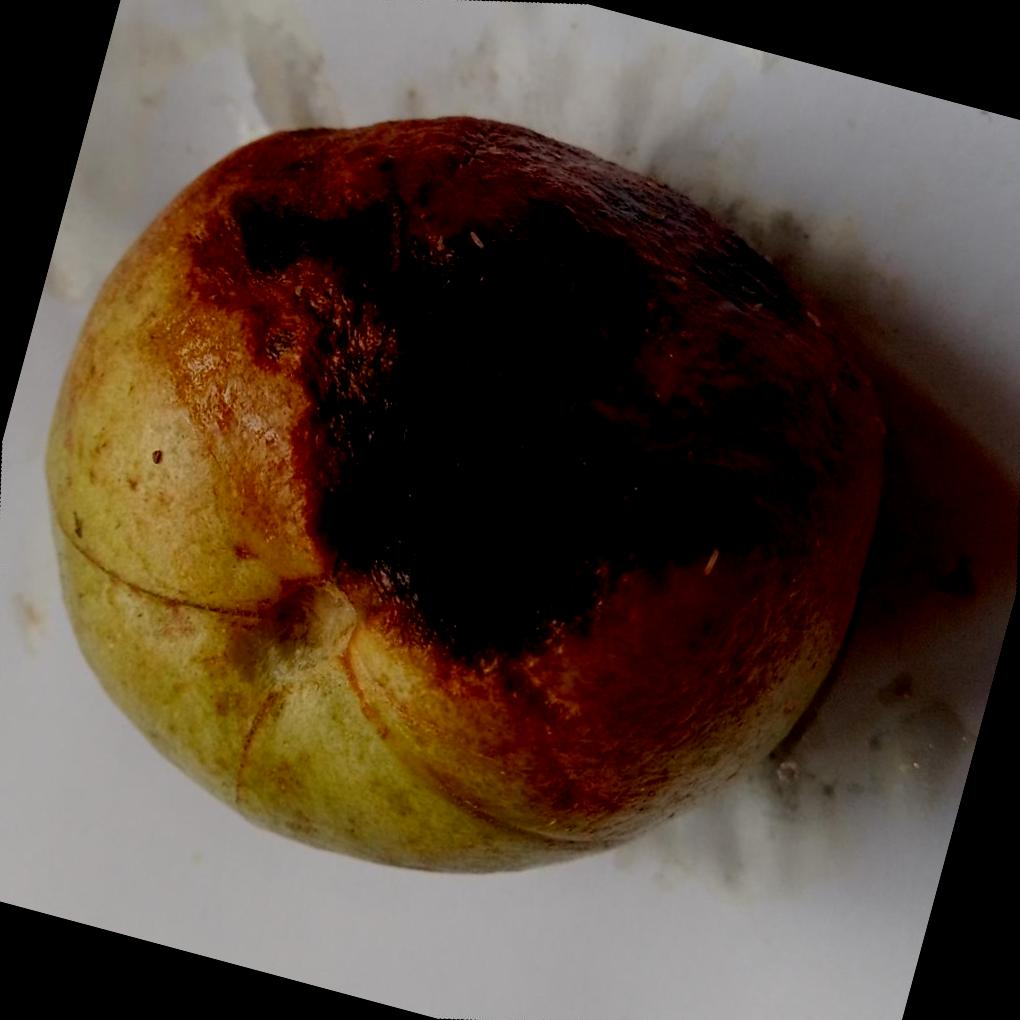FreshOrange: (42, 108, 889, 870)
